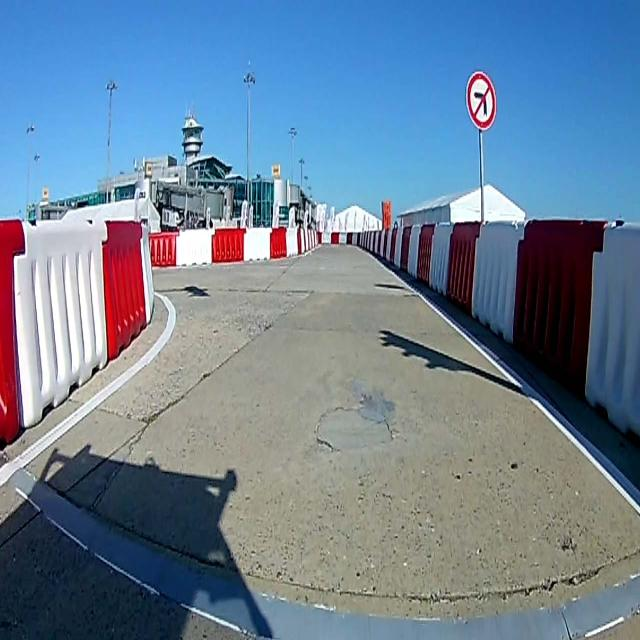soladonulmez: (467, 73, 495, 128)
